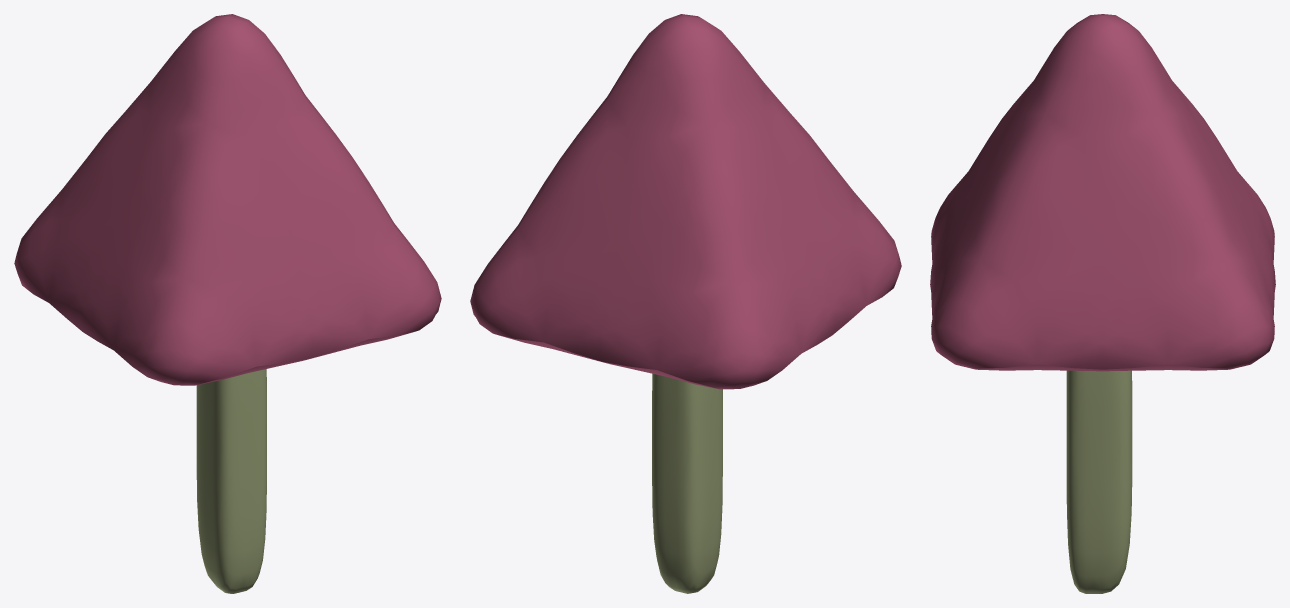
The model's file is Mushrom 9.fbx.
3 renders of one model, left to right at view 1: azimuth 30°, elevation 25°; view 2: azimuth 150°, elevation 25°; view 3: azimuth 270°, elevation 25°, orthographic.
Visible parts, largest first — view 1: Pyramid, Cube; view 2: Pyramid, Cube; view 3: Pyramid, Cube.
Part boxes in pixels (x1,y1,x2,y2): Pyramid: (14, 14, 441, 385); Cube: (196, 369, 266, 593); Pyramid: (470, 14, 901, 389); Cube: (652, 373, 722, 593); Pyramid: (930, 14, 1275, 371); Cube: (1066, 370, 1132, 593).
Size of the model in its own units: 177 by 324 by 177.
